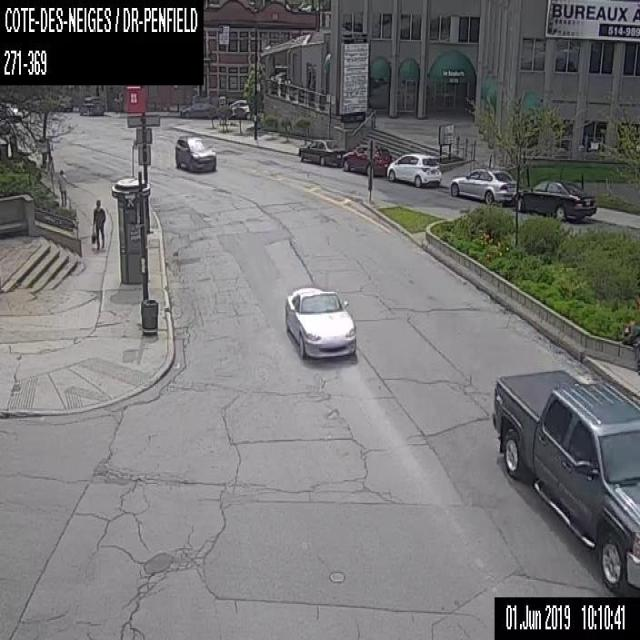pedestrian: (91, 199, 105, 249), (56, 168, 68, 205)
vehicle: (492, 367, 639, 593), (283, 284, 355, 359), (518, 178, 596, 222), (450, 167, 516, 205), (386, 151, 442, 187), (174, 132, 217, 172), (342, 142, 392, 176), (297, 137, 346, 166), (180, 100, 216, 117), (79, 94, 103, 114), (226, 98, 249, 118), (56, 92, 74, 110)
